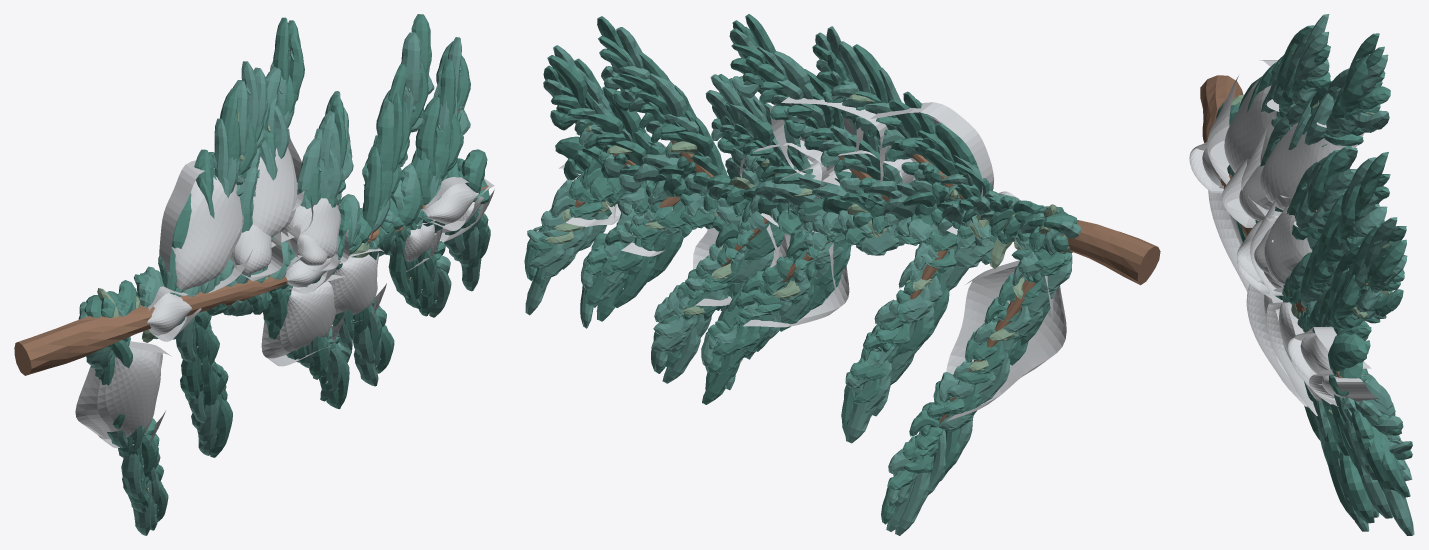
File: ln-r01d-hero-bough.glb
3 renders of one model, left to right at view 1: azimuth 30°, elevation 25°; view 2: azimuth 150°, elevation 25°; view 3: azimuth 270°, elevation 25°, orthographic. The views are drawn at different scales.
Parts seen in each view (by area): view 1: pine, snow, teal, cedar, sage; view 2: pine, teal, snow, cedar, sage; view 3: pine, snow, teal, cedar, sage.
Part boxes in pixels (box(x1,y1,x2,y2)): pine: box(84, 14, 490, 522); snow: box(75, 128, 494, 448); teal: box(78, 32, 481, 535); cedar: box(14, 110, 488, 375); sage: box(97, 111, 422, 491); pine: box(524, 14, 1077, 524); teal: box(525, 26, 1081, 535); snow: box(559, 97, 1066, 421); cedar: box(574, 120, 1160, 423); sage: box(545, 76, 1072, 399); pine: box(1216, 25, 1412, 523); snow: box(1189, 60, 1379, 416); teal: box(1227, 14, 1414, 535); cedar: box(1200, 75, 1367, 377); sage: box(1231, 51, 1402, 500).
Size of the model in its own units: 3.57 by 3.01 by 1.1.
